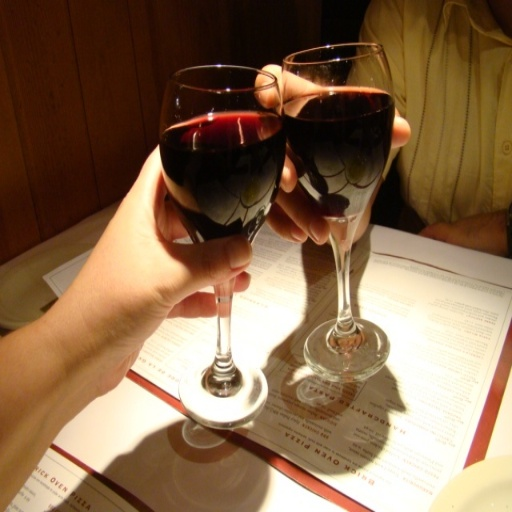hand: (25, 169, 235, 438), (253, 62, 412, 246), (416, 204, 511, 252)
